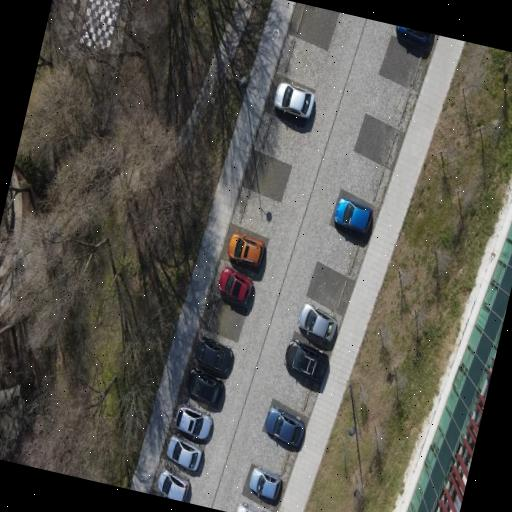person: (286, 339, 329, 384), (266, 405, 305, 445), (299, 303, 337, 340), (275, 82, 315, 117), (187, 369, 224, 405), (195, 337, 232, 373), (176, 404, 213, 439), (167, 434, 202, 470), (335, 198, 373, 231), (218, 267, 253, 302), (228, 232, 264, 265), (158, 468, 189, 501), (250, 466, 281, 499), (396, 26, 432, 44), (237, 503, 255, 511)
